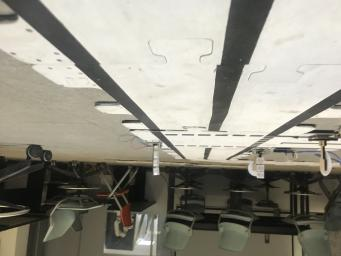street: (44, 0, 341, 161), (44, 0, 341, 161), (44, 0, 341, 161), (44, 0, 341, 161), (44, 0, 341, 161), (0, 17, 99, 88), (0, 17, 99, 88), (0, 17, 99, 88), (0, 17, 99, 88), (0, 17, 99, 88)
traffic_light: (153, 143, 161, 175), (153, 143, 161, 175), (153, 143, 161, 175), (153, 143, 161, 175), (153, 143, 161, 175), (256, 155, 264, 179), (256, 155, 264, 179), (256, 155, 264, 179), (256, 155, 264, 179), (256, 155, 264, 179)
